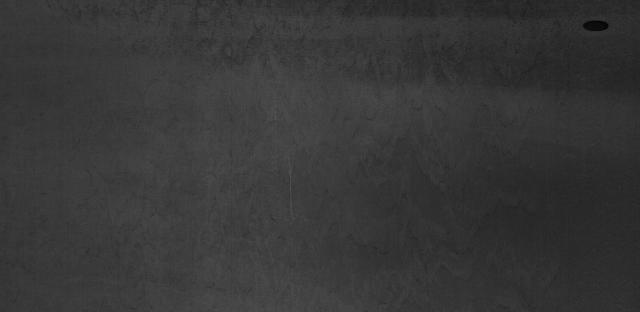punching_hole: (579, 16, 613, 35)
silk_spot: (329, 8, 559, 302), (93, 10, 321, 300)
